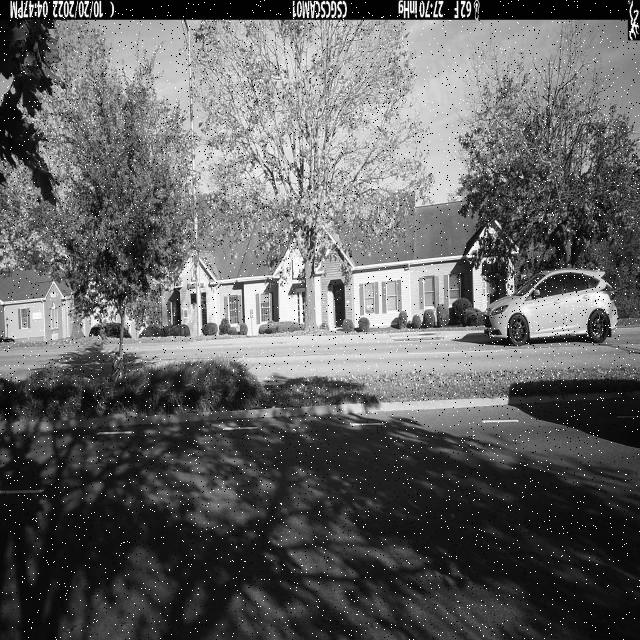Hatchback: (484, 267, 619, 347)
